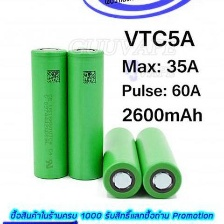battery: (65, 45, 105, 180), (29, 44, 68, 181), (132, 124, 183, 201), (99, 124, 144, 201)
